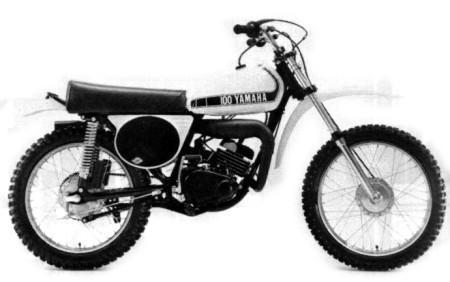motorcycle: (2, 5, 450, 276)
